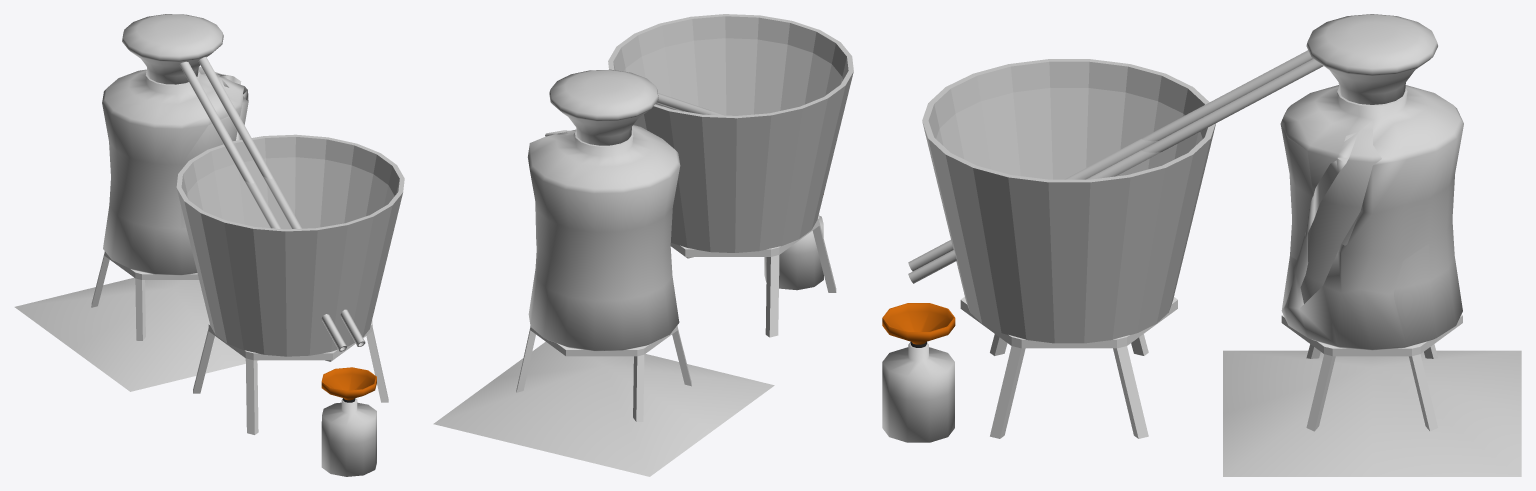
Rendered from Boiler.fbx.
3 renders of one model, left to right at view 1: azimuth 30°, elevation 25°; view 2: azimuth 150°, elevation 25°; view 3: azimuth 270°, elevation 25°, orthographic. The views are drawn at different scales.
Visible parts, largest first — view 1: Palju, BoilerBroken, Coals, Water, Hat, MoonshineBottle, Stand2, Pipe, Pipe2, Stand1, Funnel, Boiler; view 2: Palju, BoilerBroken, Coals, Water, Hat, Stand2, Stand1, MoonshineBottle, Pipe2; view 3: Palju, Coals, BoilerBroken, Water, Boiler, Hat, MoonshineBottle, Stand2, Stand1, Pipe, Pipe2, Funnel.
Boxes of the visible parts, bbox=[...] form: Palju: bbox=[176, 134, 404, 356]; BoilerBroken: bbox=[102, 66, 248, 275]; Coals: bbox=[14, 277, 258, 391]; Water: bbox=[187, 157, 394, 228]; Hat: bbox=[122, 14, 223, 84]; MoonshineBottle: bbox=[321, 398, 376, 476]; Stand2: bbox=[193, 320, 388, 434]; Pipe: bbox=[198, 57, 365, 346]; Pipe2: bbox=[179, 61, 346, 351]; Stand1: bbox=[91, 251, 198, 340]; Funnel: bbox=[321, 367, 376, 400]; Boiler: bbox=[181, 73, 241, 228]; Palju: bbox=[608, 14, 853, 252]; BoilerBroken: bbox=[527, 125, 680, 351]; Coals: bbox=[433, 341, 774, 476]; Water: bbox=[624, 38, 842, 115]; Hat: bbox=[549, 69, 658, 145]; Stand2: bbox=[670, 214, 836, 337]; Stand1: bbox=[516, 325, 691, 421]; MoonshineBottle: bbox=[764, 215, 823, 290]; Pipe2: bbox=[656, 93, 725, 115]; Palju: bbox=[922, 59, 1215, 343]; Coals: bbox=[1223, 350, 1521, 476]; BoilerBroken: bbox=[1280, 85, 1463, 350]; Water: bbox=[936, 88, 1202, 179]; Boiler: bbox=[1280, 120, 1436, 346]; Hat: bbox=[1306, 14, 1437, 104]; MoonshineBottle: bbox=[882, 342, 954, 442]; Stand2: bbox=[960, 296, 1177, 438]; Stand1: bbox=[1281, 314, 1462, 431]; Pipe: bbox=[908, 59, 1323, 283]; Pipe2: bbox=[908, 50, 1313, 271]; Funnel: bbox=[882, 303, 955, 344].
Size of what is drawn, in the model's own units: 329 by 484 by 705.
